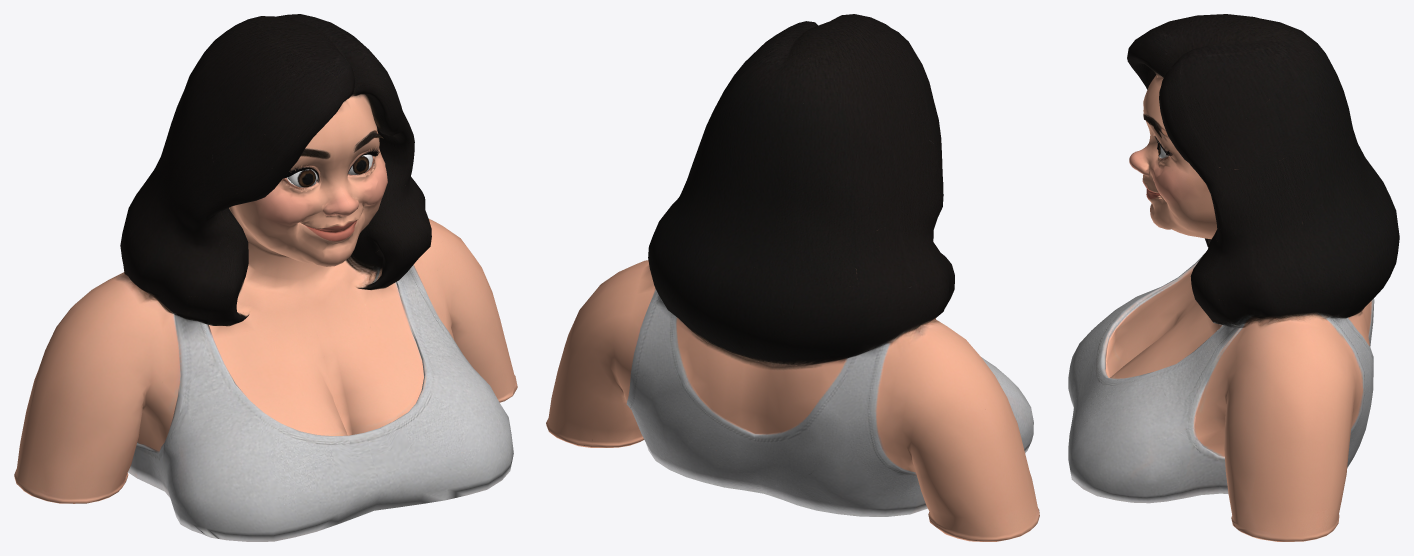
File: tete-ronde.glb
3 views of the same model, side by side, from view 1: azimuth 30°, elevation 25°; view 2: azimuth 150°, elevation 25°; view 3: azimuth 270°, elevation 25° (orthographic). The views are drawn at different scales.
Size of the model in its own units: 0.9502 by 0.7993 by 0.5918.
Materials: 1 (1 with a texture image).
